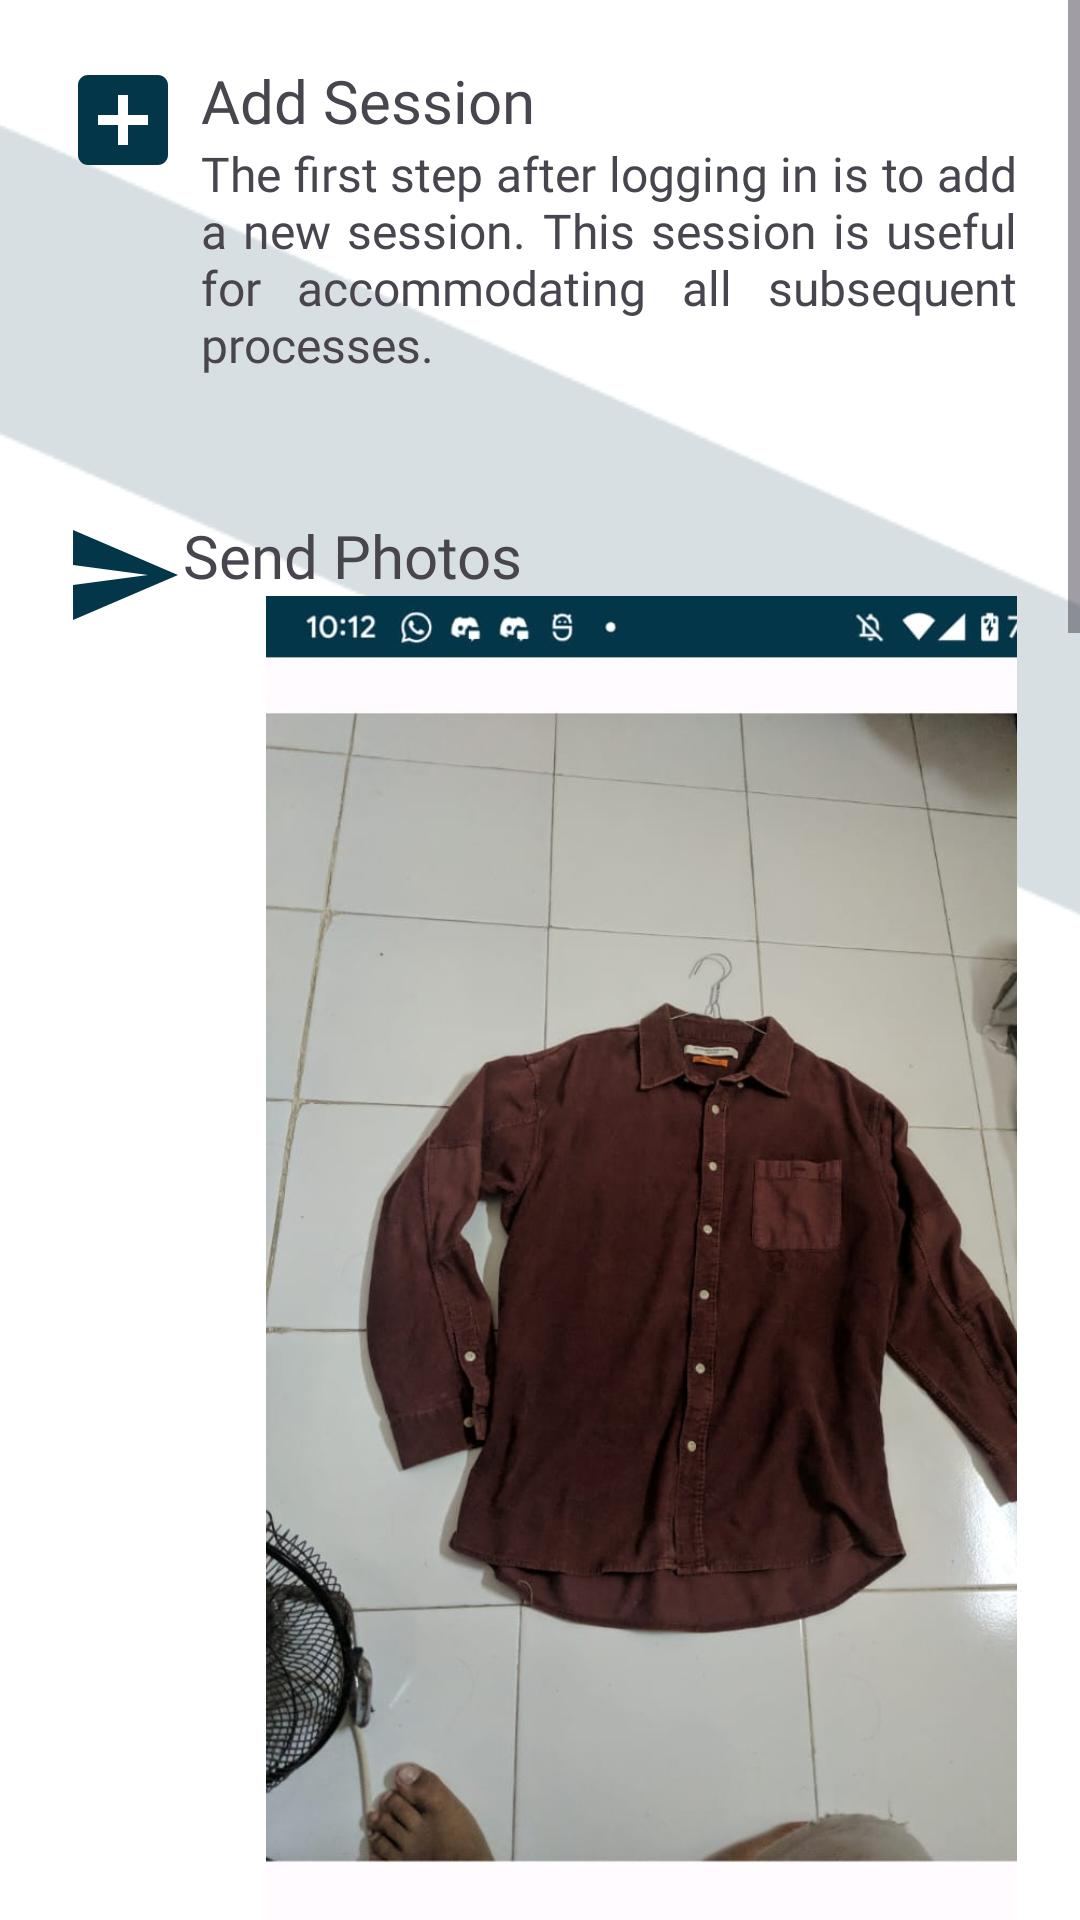

Point at icon controls on the screen. Image size 1080*1920, points as [x,y].
addbox: [115,127]
